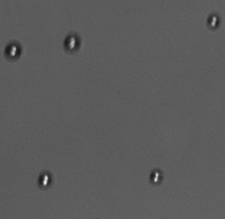Living Cell: (3, 41, 24, 62), (35, 170, 56, 190), (62, 33, 81, 52), (147, 168, 164, 186), (206, 13, 219, 30)
